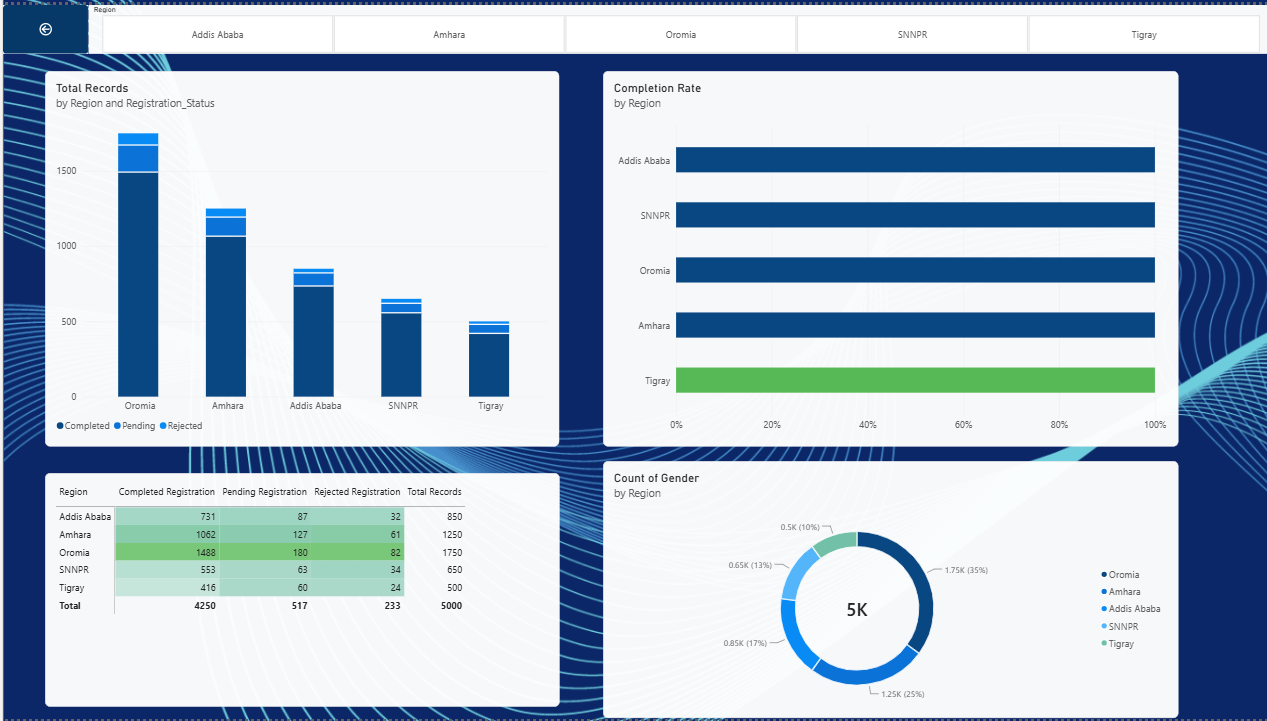

The page's visual inventory and layout, read from the dashboard file:
{"tool":"powerbi","page":{"name":"Regional Analysis","canvas":[1920,1080],"ordinal":1},"visuals":[{"type":"columnChart","fields":{"Category":["Dataset_5000.Region"],"Series":["Dataset_5000.Registration_Status"],"Y":["Dataset_5000.Total Records"]},"box":[63.6,99.9,778.9,568.4],"z":0},{"type":"hundredPercentStackedBarChart","fields":{"Category":["Dataset_5000.Region"],"Y":["Dataset_5000.Completion Rate"]},"box":[908.5,99.9,871.1,568.4],"z":1000},{"type":"pivotTable","fields":{"Rows":["Dataset_5000.Region"],"Values":["Dataset_5000.Completed Registration","Dataset_5000.Pending Registration","Dataset_5000.Rejected Registration","Dataset_5000.Total Records"]},"box":[63.6,708.6,779.1,354.3],"z":2000},{"type":"actionButton","box":[0,0,128.9,73.7],"z":3000},{"type":"slicer","fields":{"Values":["Dataset_5000.Region"]},"box":[128.9,0,1792.1,73.7],"z":4000},{"type":"donutChart","fields":{"Category":["Dataset_5000.Region"],"Y":["CountNonNull(Dataset_5000.Gender)"]},"box":[908.5,690.5,871.1,389.5],"z":5000}]}

Visuals, with their boxes in screenshot pixels (x1, y1, x2, y2):
columnChart - Dataset_5000.Region x Dataset_5000.Registration_Status: (left=51, top=65, right=558, bottom=435)
hundredPercentStackedBarChart - Dataset_5000.Region x Dataset_5000.Completion Rate: (left=601, top=65, right=1168, bottom=435)
pivotTable - Dataset_5000.Region x Dataset_5000.Completed Registration: (left=51, top=461, right=558, bottom=692)
actionButton: (left=10, top=0, right=94, bottom=48)
slicer - Dataset_5000.Region: (left=94, top=0, right=1260, bottom=48)
donutChart - Dataset_5000.Region x CountNonNull(Dataset_5000.Gender): (left=601, top=449, right=1168, bottom=703)
